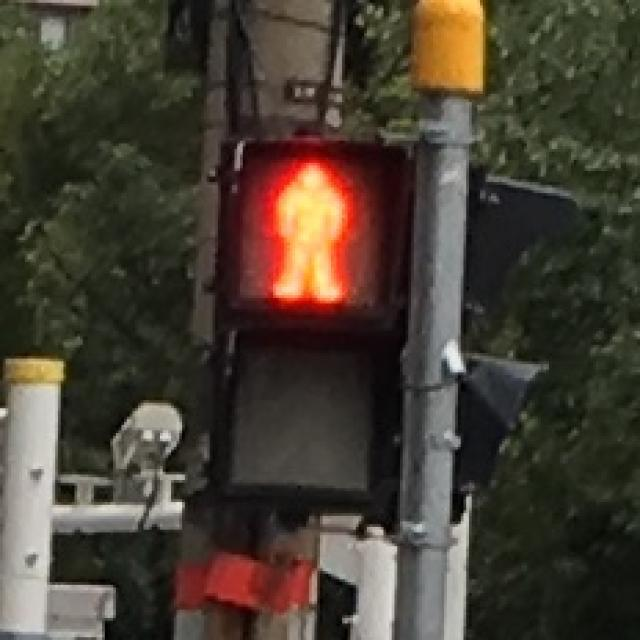red_light: (242, 146, 376, 312)
